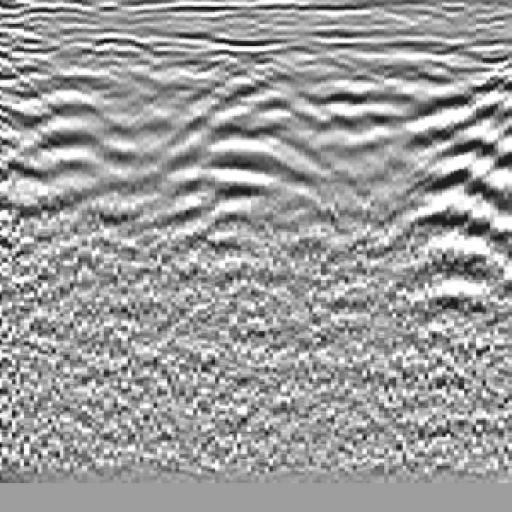metalic: (175, 35, 338, 294)
nonmetalic: (412, 35, 512, 284)
